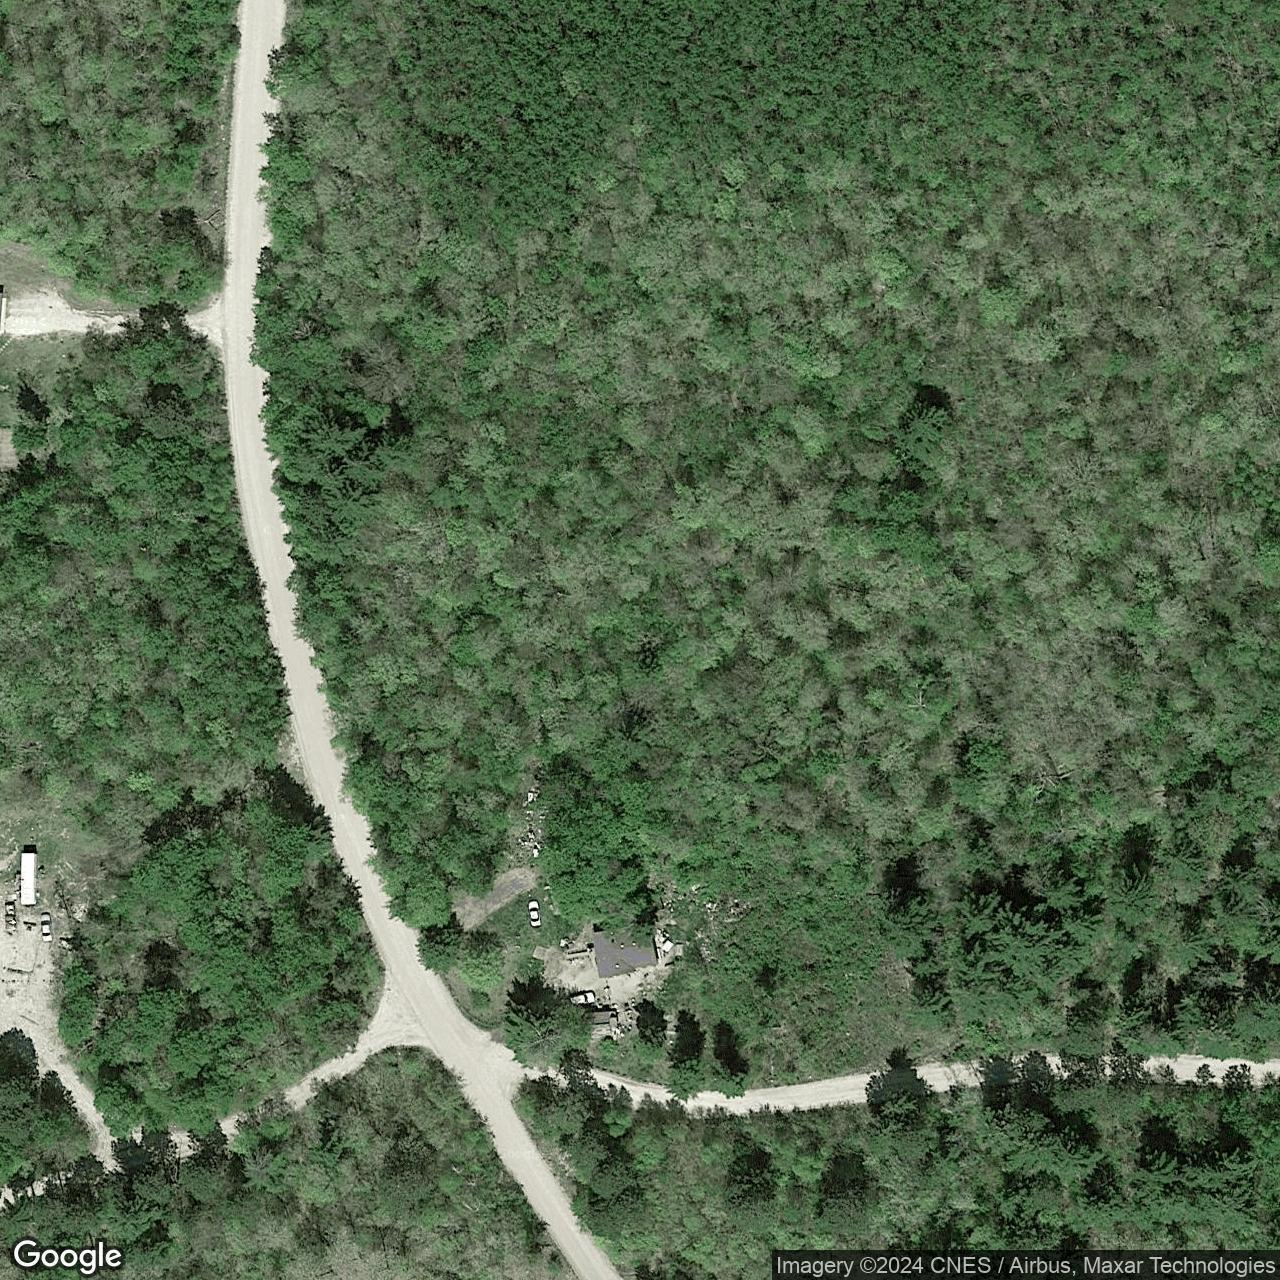House: (592, 922, 658, 980)
Trailer: (20, 852, 40, 906)
